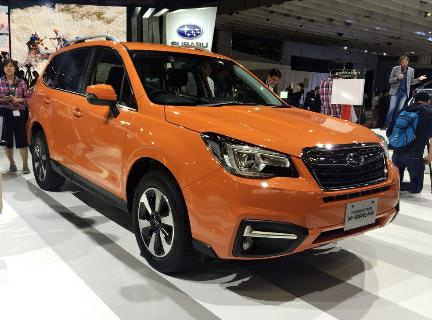斯巴鲁-傲虎: (23, 37, 406, 282)
